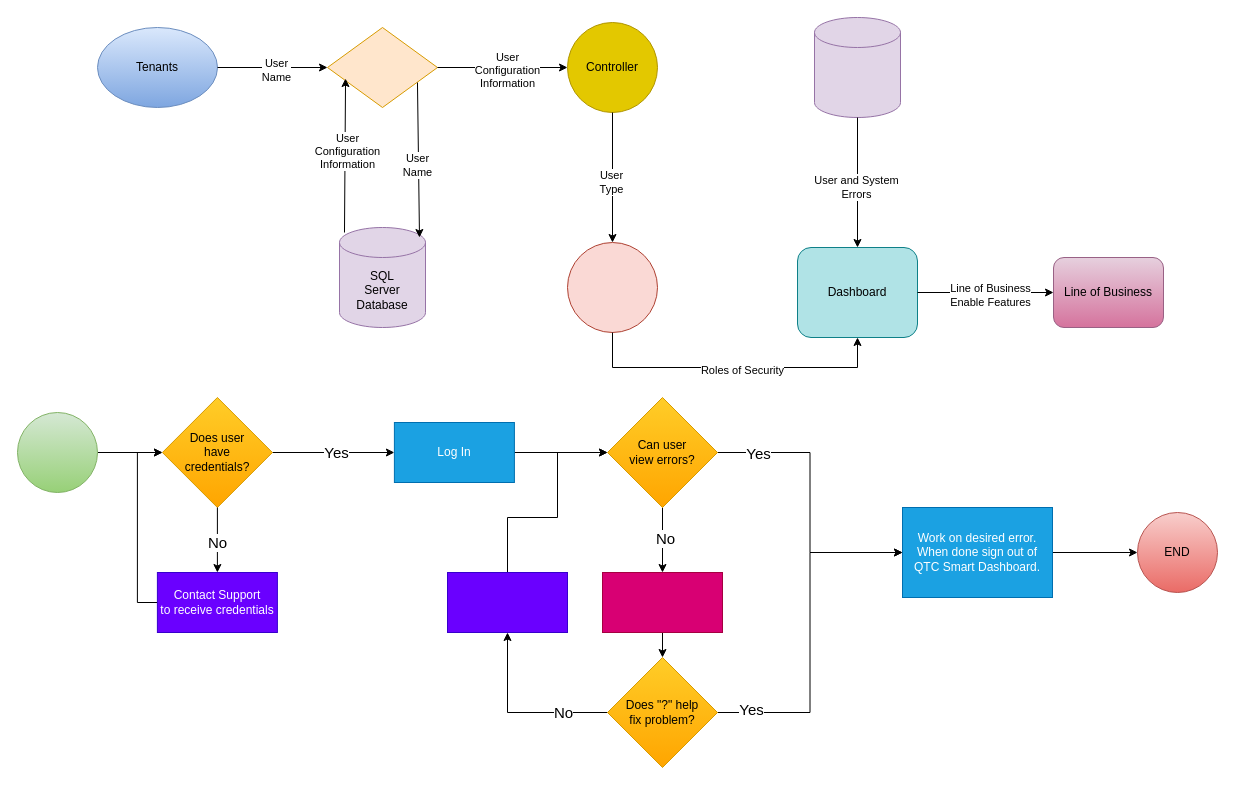
This 1235x785 diagram has some shape labels left out. The shapes that lost their labels are listed below. From the top down, each one's centre as x and y in pixels, then its label:
the point at 382,67: API
the point at 857,67: Databases
the point at 612,287: User Type Plugin
the point at 57,452: START
the point at 507,602: Contact Support for help with your configuration
the point at 662,602: Click on "?" for QTC Dashboard Help
